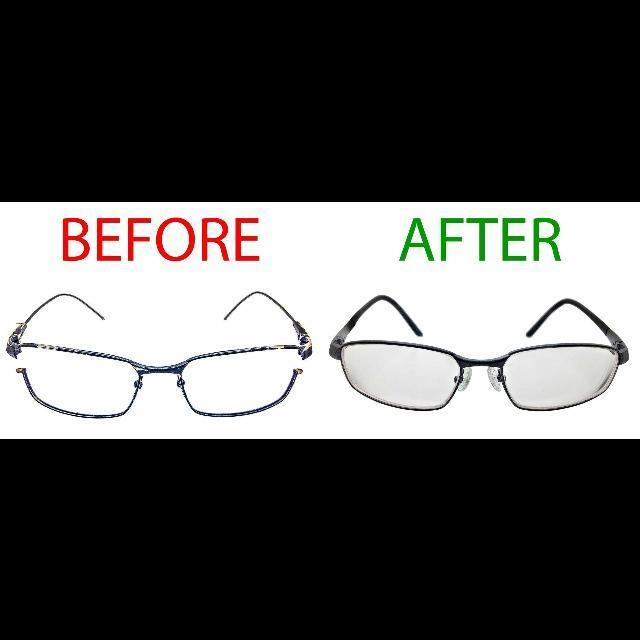glasses: (7, 292, 314, 420), (326, 295, 630, 413)
